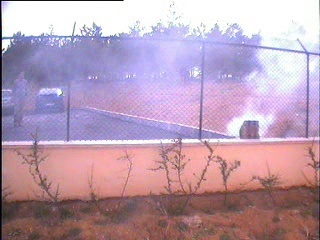smoke: (214, 23, 316, 138)
